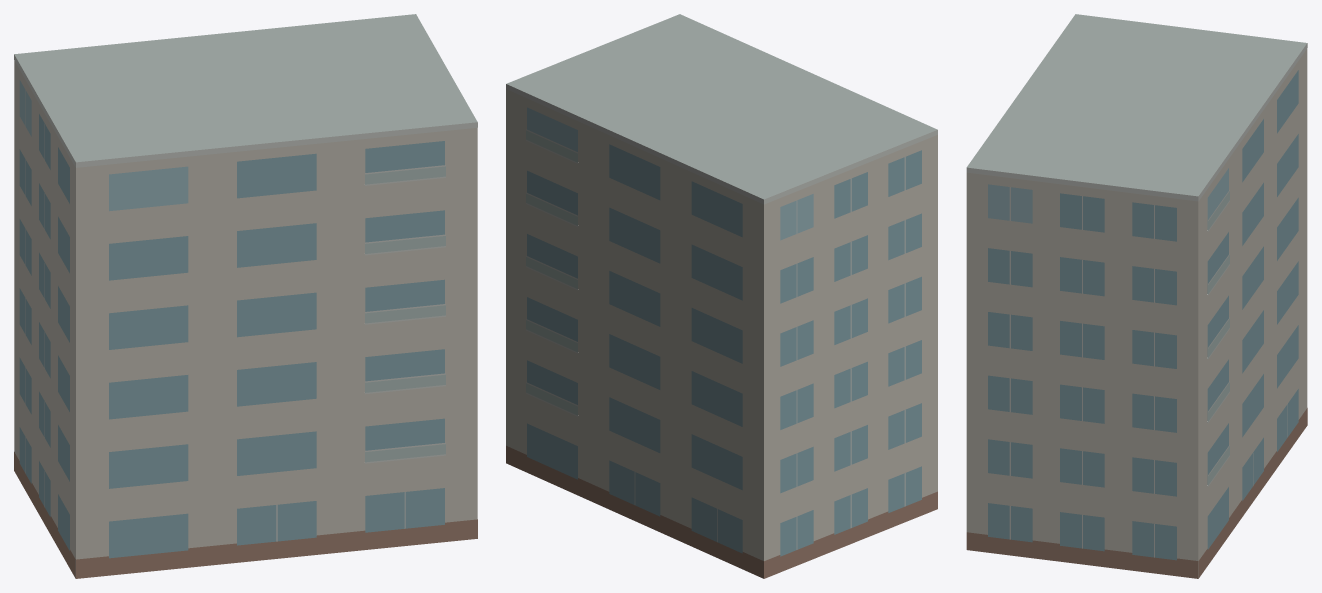
The model's file is survey-upis-32875280.glb.
3 renders of one model, left to right at view 1: azimuth 30°, elevation 25°; view 2: azimuth 150°, elevation 25°; view 3: azimuth 270°, elevation 25°, orthographic. The views are drawn at different scales.
Parts seen in each view (by area): view 1: survey-upis-32875280.tmp; view 2: survey-upis-32875280.tmp; view 3: survey-upis-32875280.tmp.
Part boxes in pixels (<box>): survey-upis-32875280.tmp: <box>14,14,477,578</box>; survey-upis-32875280.tmp: <box>506,14,937,578</box>; survey-upis-32875280.tmp: <box>966,14,1307,578</box>.
Bounding box in the file's own units: 18.73 × 18.3 × 14.79.
